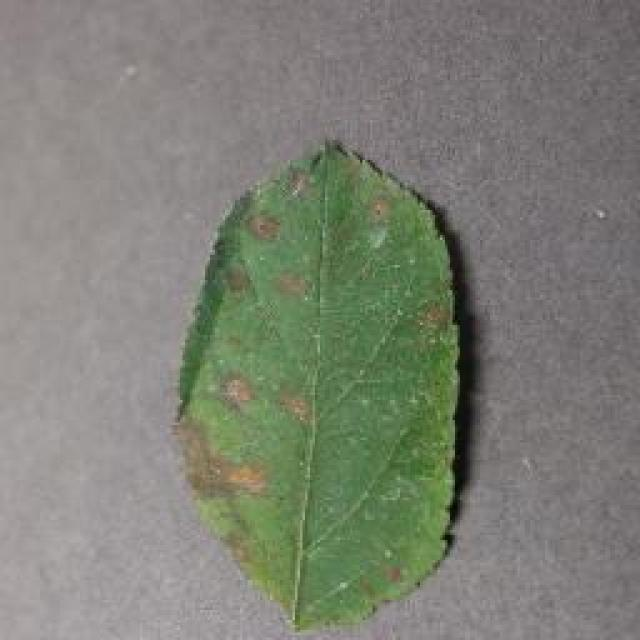apple scab disease: (170, 135, 465, 633)
